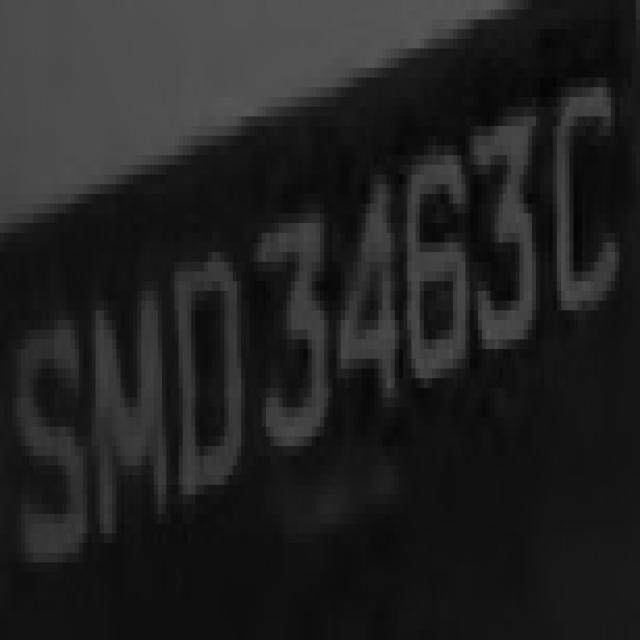3: (245, 174, 328, 485), (462, 58, 540, 378)
4: (332, 116, 412, 456)
6: (395, 106, 461, 426)
C: (548, 39, 624, 368)
D: (166, 242, 254, 543)
M: (79, 223, 175, 553)
S: (4, 281, 67, 611)
